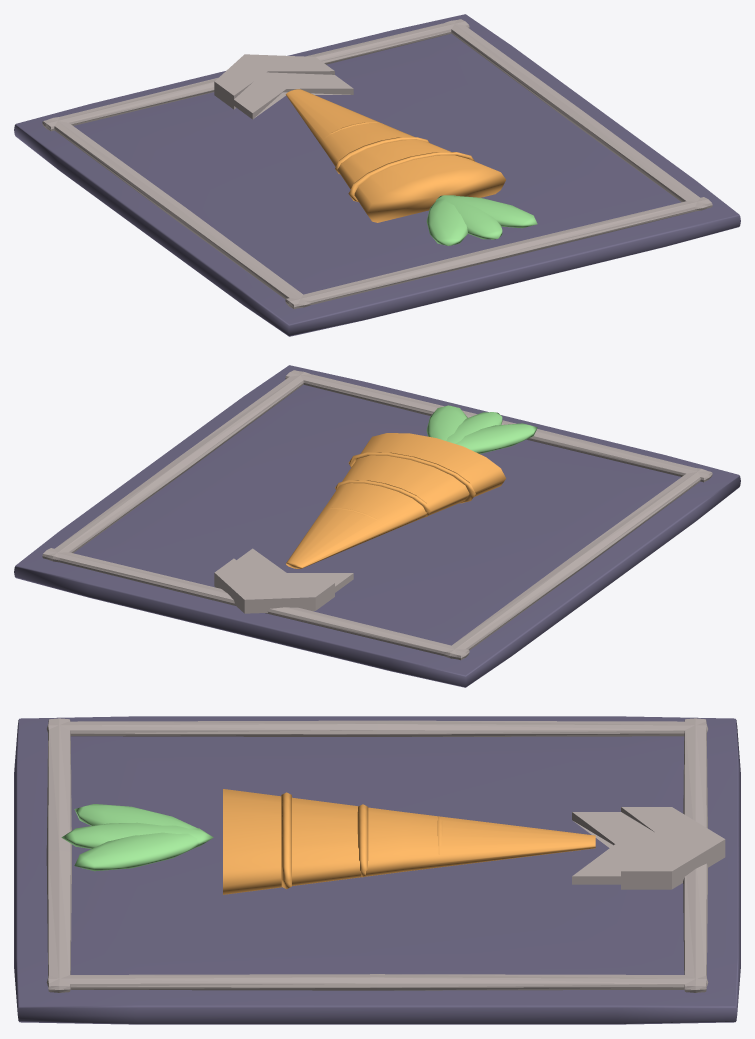
File: RockinRacewayCarrot.glb
3 views of the same model, one above another, from view 1: azimuth 30°, elevation 25°; view 2: azimuth 150°, elevation 25°; view 3: azimuth 270°, elevation 25° (orthographic). The views are drawn at different scales.
Visible parts, largest first — view 1: Pad, Trim, Carrot, Leaves; view 2: Pad, Trim, Carrot, Leaves; view 3: Pad, Trim, Carrot, Leaves.
Part boxes in pixels (x1,y1,x2,y2): Pad: (14, 14, 740, 336); Trim: (42, 19, 712, 309); Carrot: (286, 89, 505, 222); Leaves: (426, 195, 537, 245); Pad: (14, 365, 740, 687); Trim: (42, 370, 712, 660); Carrot: (286, 433, 505, 568); Leaves: (426, 405, 537, 453); Pad: (14, 716, 740, 1024); Trim: (46, 718, 725, 992); Carrot: (223, 789, 595, 894); Leaves: (61, 804, 213, 871).
Size of the model in its own units: 3.8 by 0.4388 by 4.
